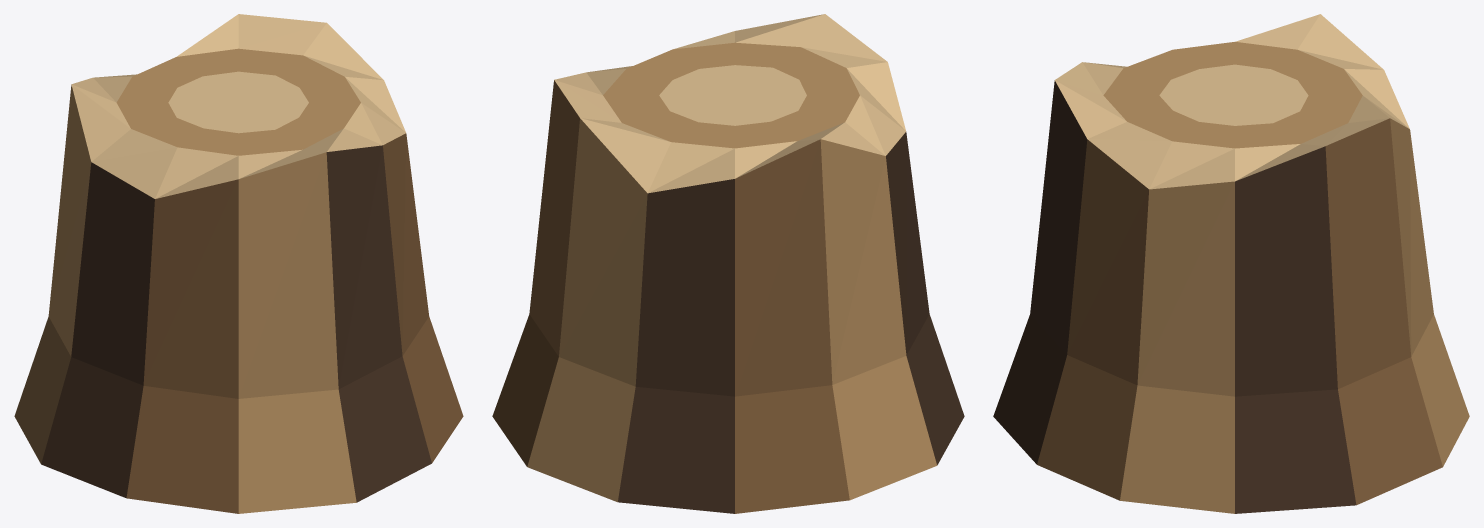
The model's file is TW_STUMP_BROKEN_A_LOD0.glb.
3 renders of one model, left to right at view 1: azimuth 30°, elevation 25°; view 2: azimuth 150°, elevation 25°; view 3: azimuth 270°, elevation 25°, orthographic. The views are drawn at different scales.
Visible parts, largest first — view 1: TW_STUMP_BROKEN_A_LOD0; view 2: TW_STUMP_BROKEN_A_LOD0; view 3: TW_STUMP_BROKEN_A_LOD0.
Boxes of the visible parts, x1,y1,x2,y2 form: TW_STUMP_BROKEN_A_LOD0: [14, 14, 463, 513]; TW_STUMP_BROKEN_A_LOD0: [492, 14, 964, 513]; TW_STUMP_BROKEN_A_LOD0: [993, 14, 1469, 513].
Size of the model in its own units: 1.01 by 0.82 by 1.04.
1 material, 1 textured.
